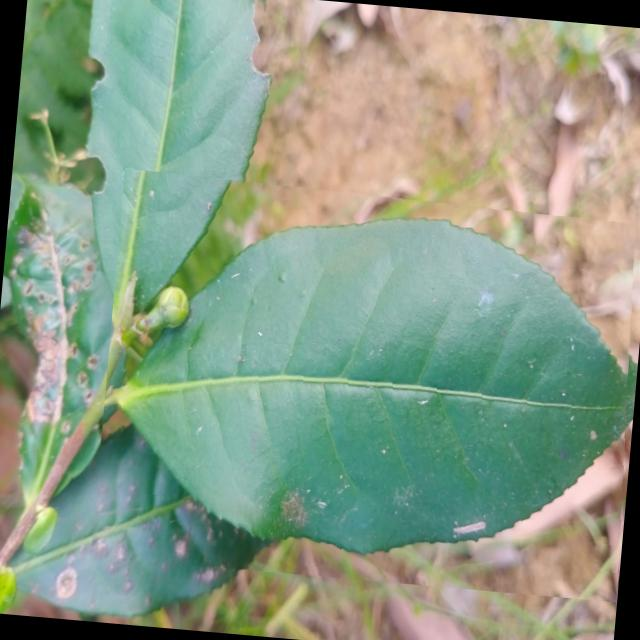Category D(7+ days, Not for Tea): (90, 166, 640, 601)
